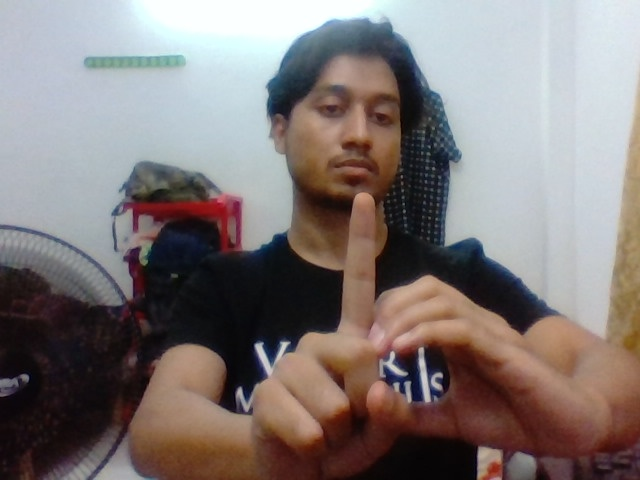D: (301, 192, 526, 448)
